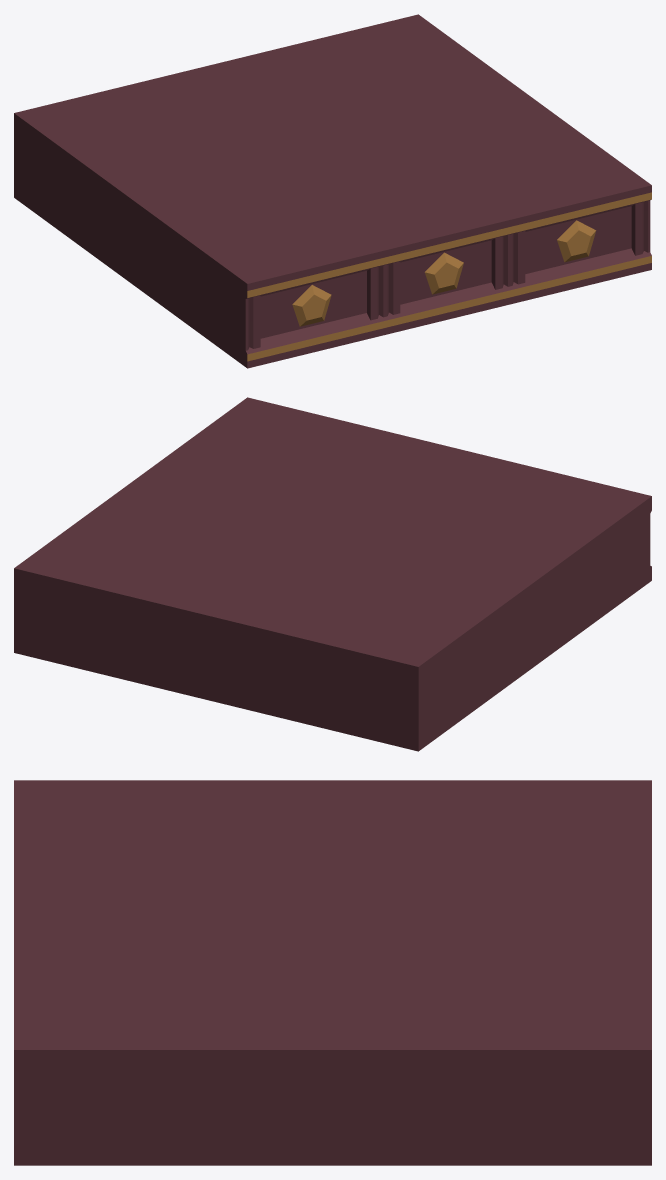
Rendered from SM_Architrave_3x3m_Ornament_F_Empire.fbx.
The picture shows the model from 3 angles, top to bottom: view 1: azimuth 30°, elevation 25°; view 2: azimuth 150°, elevation 25°; view 3: azimuth 270°, elevation 25°; orthographic projection. The views are drawn at different scales.
Visible parts, largest first — view 1: SM_Architrave_3x3m_Ornament_F_Empire; view 2: SM_Architrave_3x3m_Ornament_F_Empire; view 3: SM_Architrave_3x3m_Ornament_F_Empire.
Part boxes in pixels (box(x1,y1,x2,y2)): SM_Architrave_3x3m_Ornament_F_Empire: box(14, 14, 651, 368); SM_Architrave_3x3m_Ornament_F_Empire: box(14, 397, 651, 751); SM_Architrave_3x3m_Ornament_F_Empire: box(14, 780, 651, 1165).
Size of the model in its own units: 3 by 0.5997 by 3.
